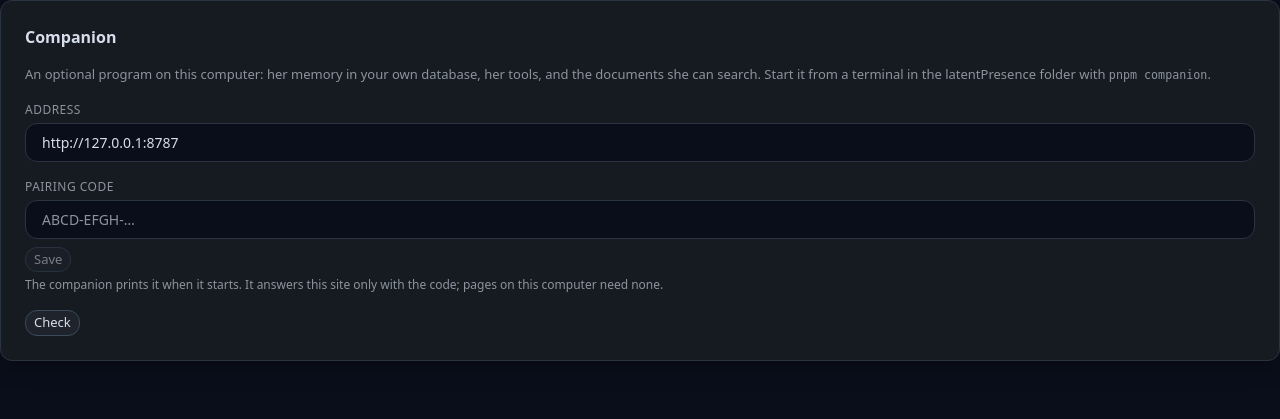
Test: Settings → Companion in a browser (P8-T03, ADR-64) › Check says what stands in the way
Click the button "Check": (52, 323) [25,310,80,336]
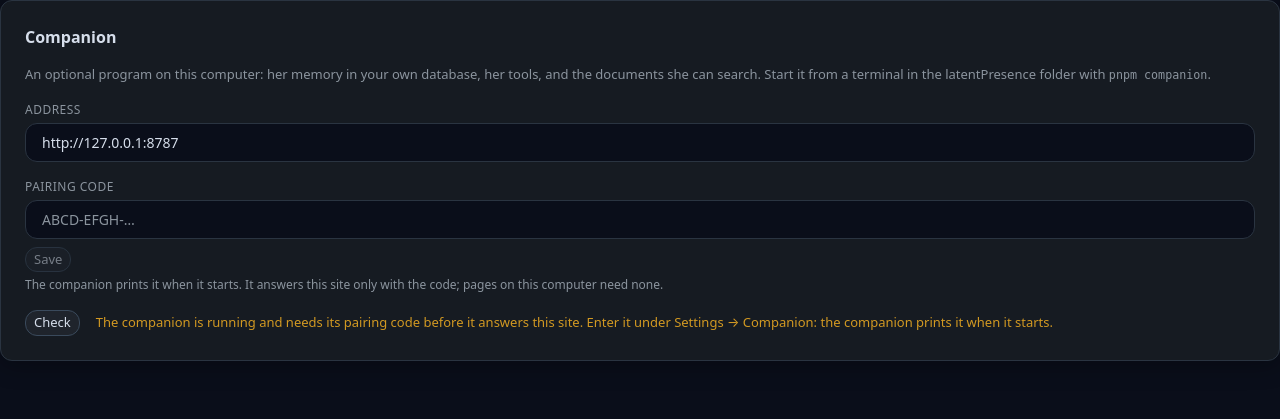
Now the text "The companion is running and needs its pairing code before it answers this site. Enter it under Settings → Companion: th" is shown, box [96,313,1053,331]
Click the button "Check": (52, 323) [25,310,80,336]
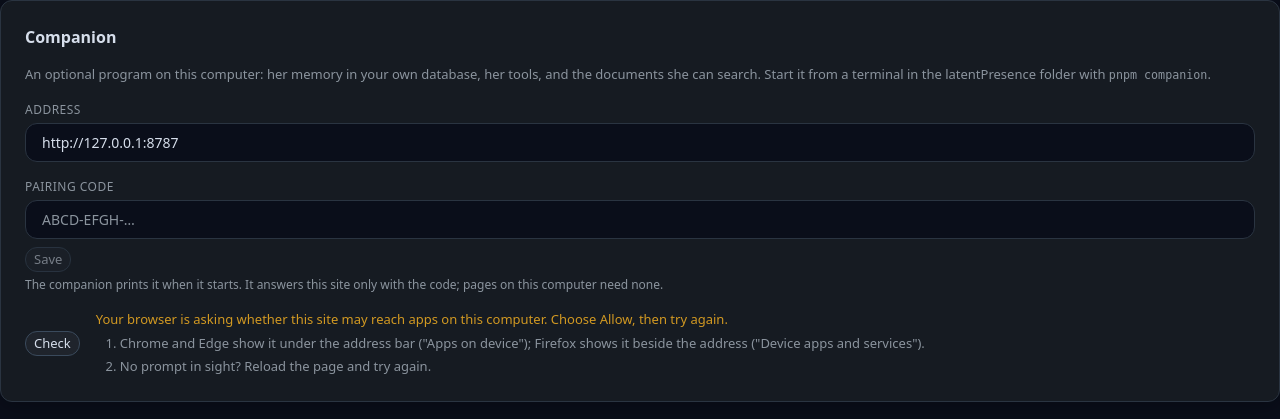
Now the text "Choose Allow, then try again" is shown, box [96,310,728,328]
Click the button "Check": (52, 343) [25,331,80,356]
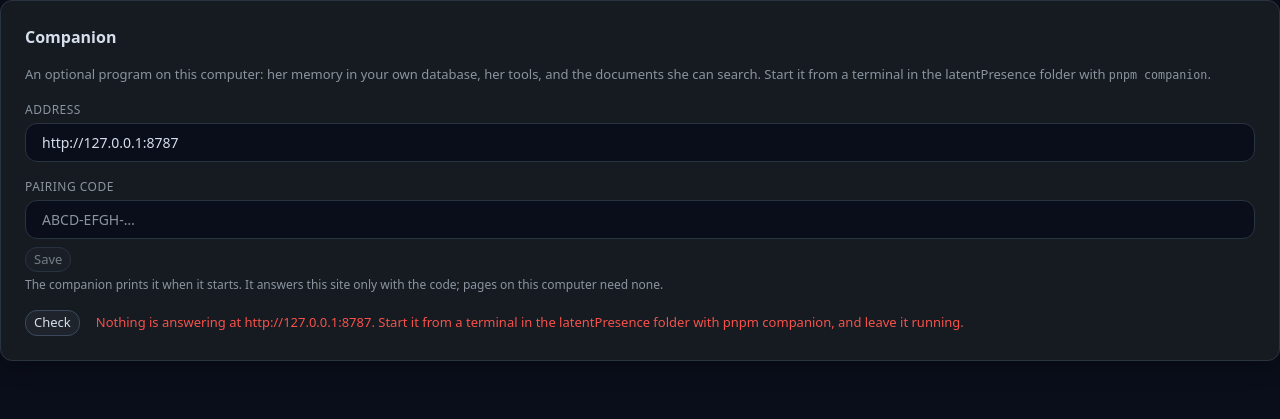
Now the text "Nothing is answering at http://127.0.0.1:8787. Start it" is shown, box [96,313,964,331]
